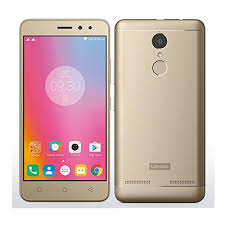lenovo: (16, 14, 112, 206), (112, 14, 208, 206)
